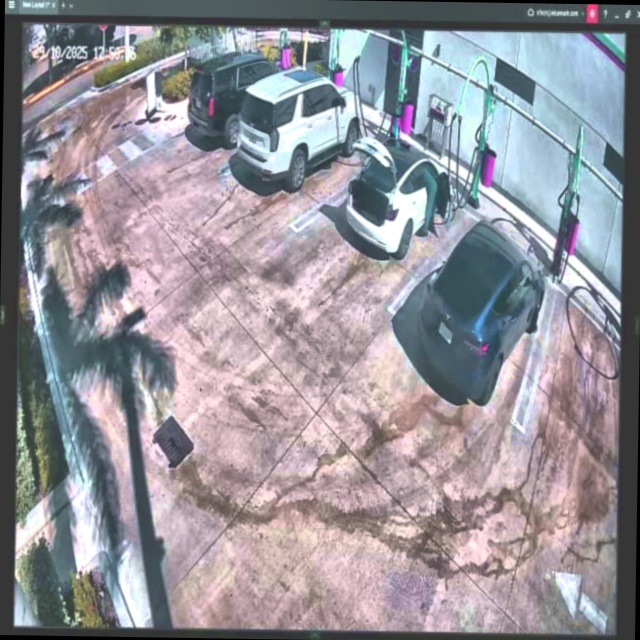Car: (423, 216, 546, 409), (237, 71, 361, 184), (345, 137, 450, 267), (188, 56, 292, 152)
